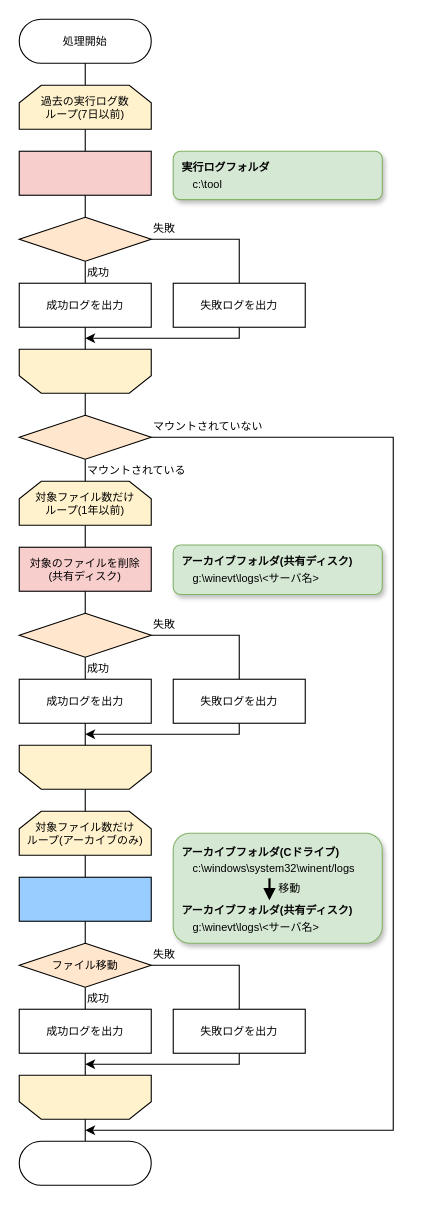
The diagram is 421 pixels wide and 1205 high, and some of its shapes have lost their labels. The centre of each missing label's shape, as x and y in pixels:
ファイルを移動 (Cドライブ→共有ディスク): the point at 84,898
ファイル削除: the point at 84,634
共有ディスク状態: the point at 84,436
処理終了: the point at 84,1162
削除結果: the point at 84,238
対象の実行ログを削除 (c:\tool): the point at 84,172
